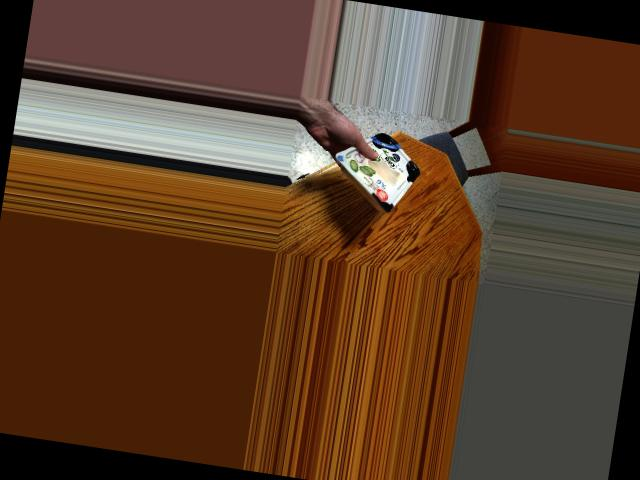cheese: (339, 136, 424, 211)
